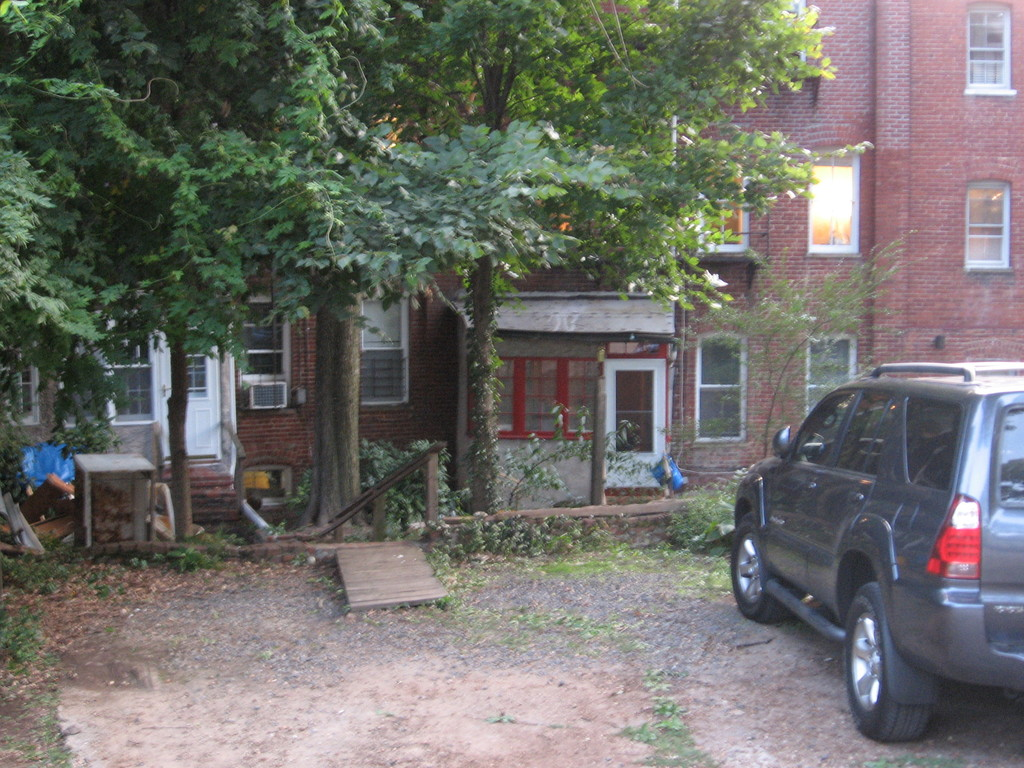Car: (735, 356, 1021, 750)
